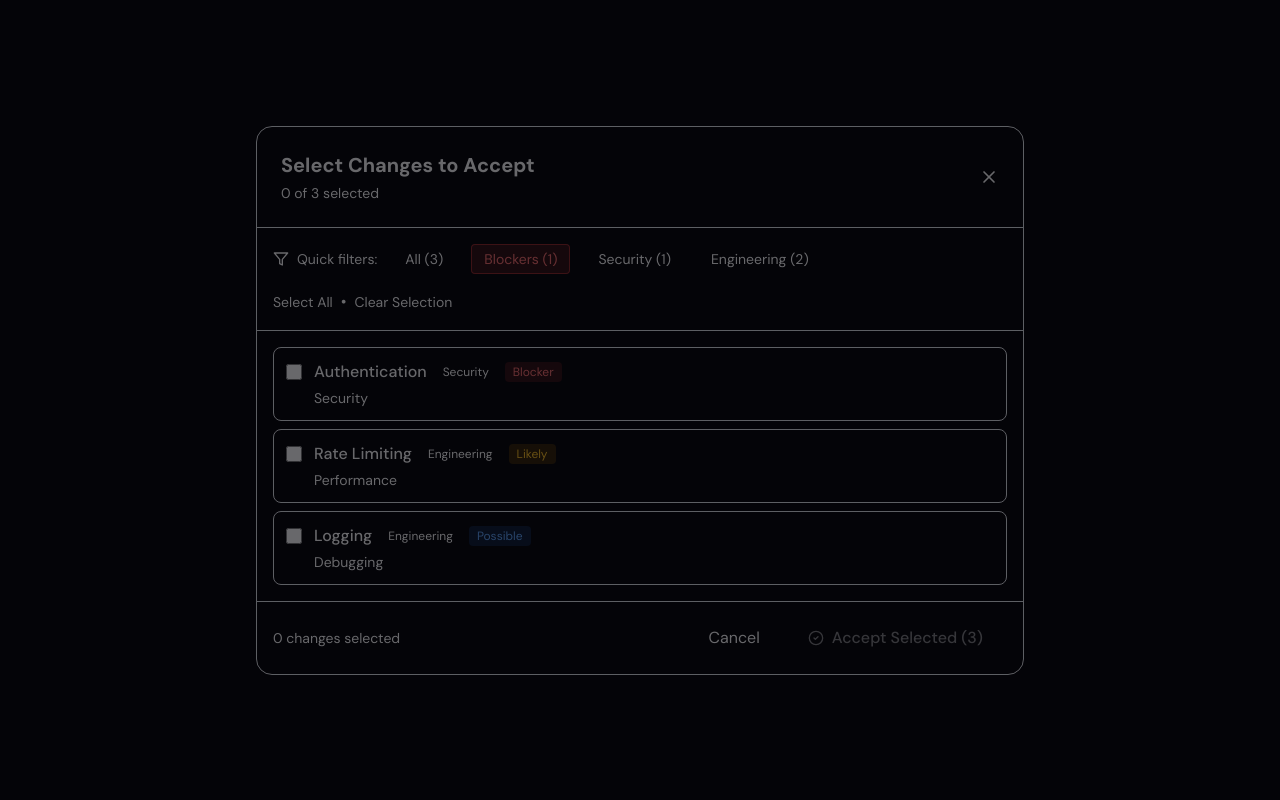
Test: BulkAcceptPanel › can clear selection
Select all first
Click the button "Select All" at (303, 302), box [273,292,333,312]
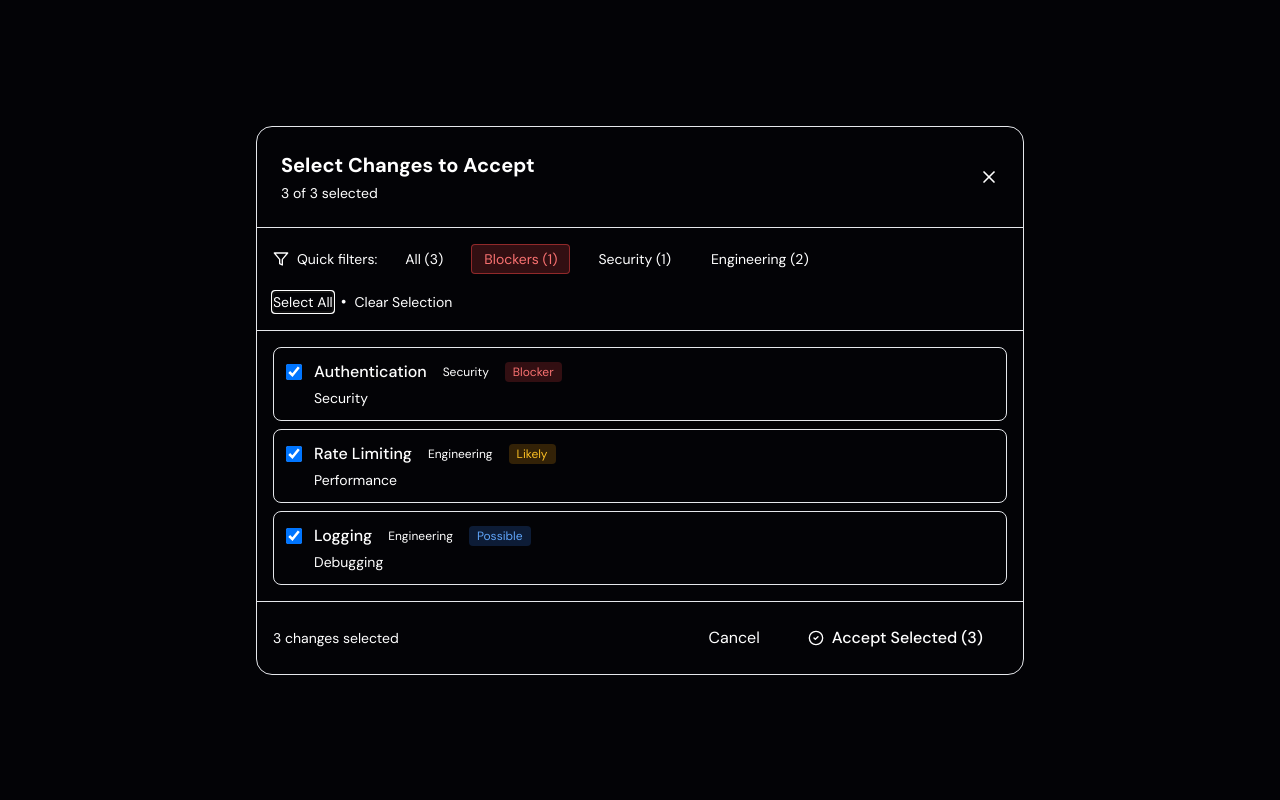
Now the text "3 of 3 selected" is shown, box [281,184,378,202]
Clear selection
Click the button "Clear Selection" at (403, 302), box [354,292,452,312]
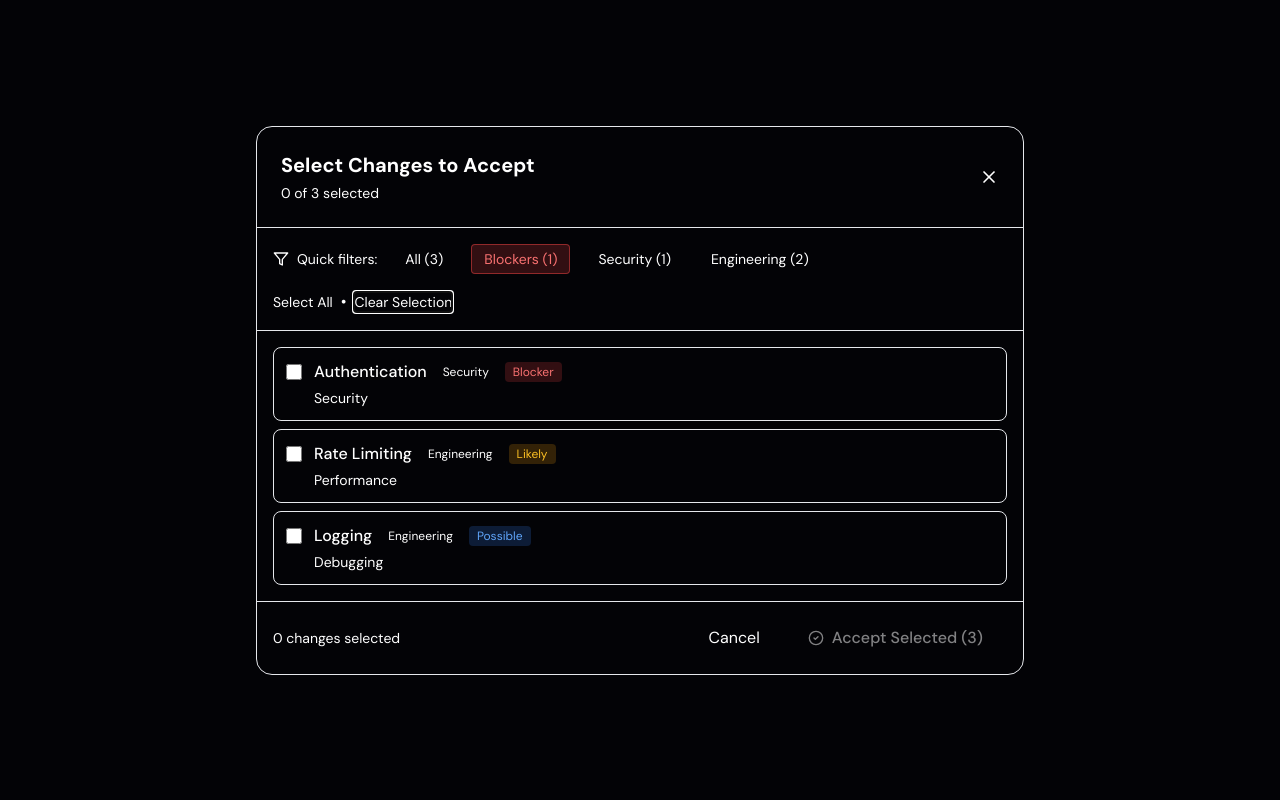
Now the text "0 of 3 selected" is shown, box [281,184,379,202]
